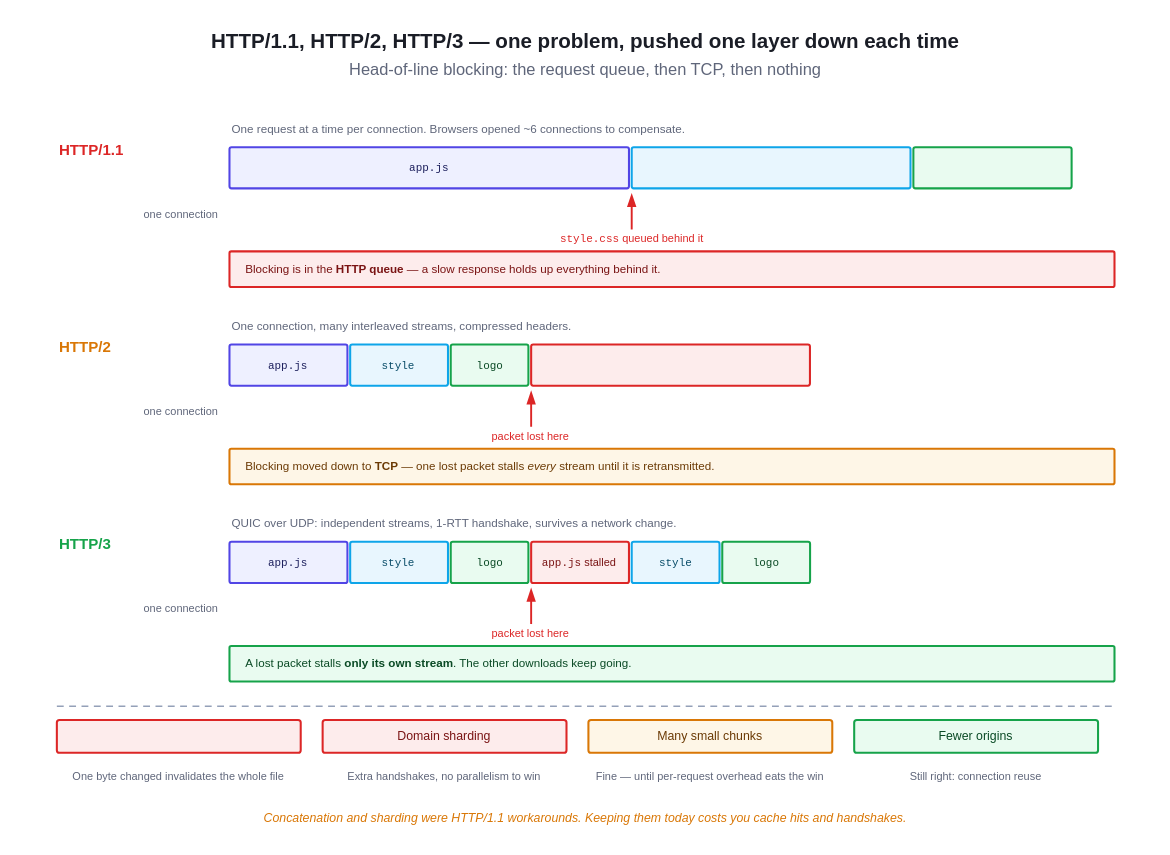
The diagram is 1170 pixels wide and 855 high, and some of its shapes have lost their labels. The centre of each missing label's shape, as x and y in pixels:
all three streams stalled — TCP will not deliver out of order: point (670, 364)
Concatenate everything: point (178, 735)
logo.svg: point (992, 167)
style.css: point (770, 167)
